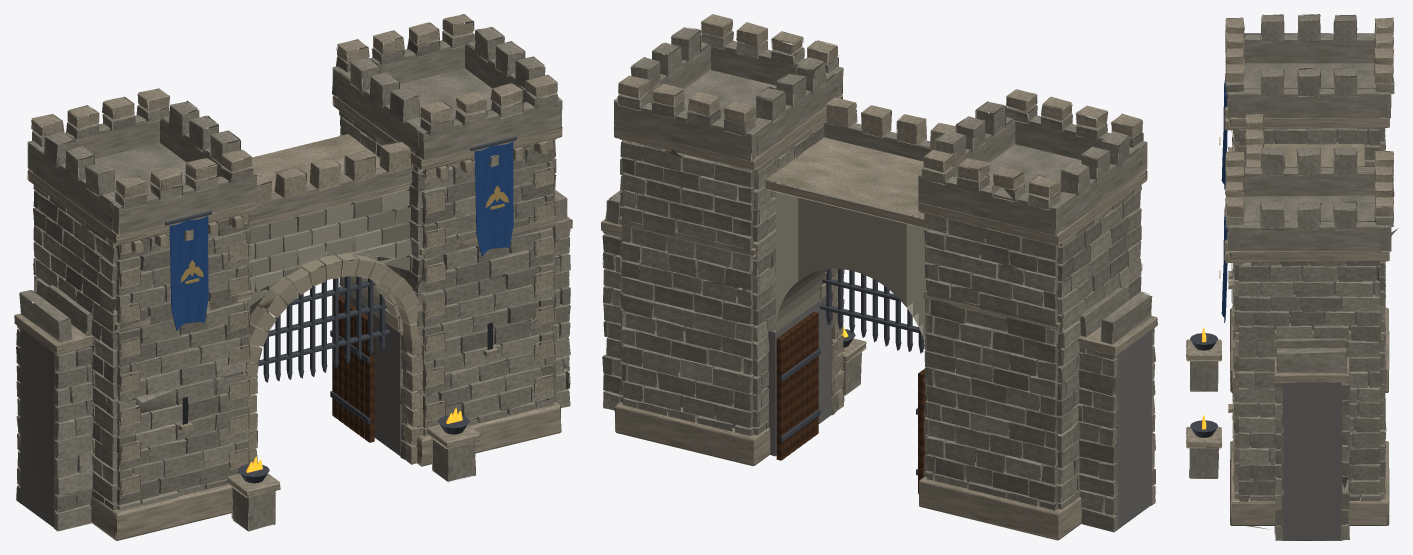
File: ValoriaHeroGate_LOD2.glb
3 renders of one model, left to right at view 1: azimuth 30°, elevation 25°; view 2: azimuth 150°, elevation 25°; view 3: azimuth 270°, elevation 25°, orthographic. The views are drawn at different scales.
Visible parts, largest first — view 1: Battered tower foot, Tower front ashlar.002, Tower front ashlar.003, Tower front ashlar.001, Tower front ashlar, Tower front ashlar.027, Tower front ashlar.008, Tower structural core, Banner mounting bar, Royal blue Valoria banner, Open oak gate leaf; view 2: Tower front ashlar.002, Battered tower foot, Tower front ashlar.001, Tower front ashlar.003, Tower front ashlar.027, Tower front ashlar, Tower front ashlar.008, Tower structural core, Open oak gate leaf, Banner mounting bar; view 3: Tower front ashlar.002, Battered tower foot, Tower front ashlar.003, Tower structural core, Tower front ashlar.008, Tower front ashlar.027, Tower front ashlar, Tower front ashlar.001, Royal blue Valoria banner, Banner mounting bar.
Boxes of the visible parts, <box> form: Battered tower foot: <box>14,14,572,540</box>; Tower front ashlar.002: <box>16,27,569,525</box>; Tower front ashlar.003: <box>17,68,569,531</box>; Tower front ashlar.001: <box>16,38,570,513</box>; Tower front ashlar: <box>32,100,570,531</box>; Tower front ashlar.027: <box>16,30,570,478</box>; Tower front ashlar.008: <box>16,116,570,507</box>; Tower structural core: <box>20,163,565,527</box>; Banner mounting bar: <box>165,136,516,483</box>; Royal blue Valoria banner: <box>169,141,513,330</box>; Open oak gate leaf: <box>332,295,374,442</box>; Tower front ashlar.002: <box>605,27,1155,514</box>; Battered tower foot: <box>601,14,1157,540</box>; Tower front ashlar.001: <box>602,101,1155,502</box>; Tower front ashlar.003: <box>603,70,1155,515</box>; Tower front ashlar.027: <box>603,31,1155,512</box>; Tower front ashlar: <box>603,40,1155,505</box>; Tower front ashlar.008: <box>602,140,1155,532</box>; Tower structural core: <box>607,148,1151,528</box>; Open oak gate leaf: <box>776,312,927,493</box>; Banner mounting bar: <box>780,269,924,475</box>; Tower front ashlar.002: <box>1225,14,1393,533</box>; Battered tower foot: <box>1186,17,1394,525</box>; Tower front ashlar.003: <box>1189,44,1393,522</box>; Tower structural core: <box>1243,128,1377,540</box>; Tower front ashlar.008: <box>1229,126,1385,529</box>; Tower front ashlar.027: <box>1225,60,1394,540</box>; Tower front ashlar: <box>1226,28,1398,540</box>; Tower front ashlar.001: <box>1232,32,1394,525</box>; Royal blue Valoria banner: <box>1221,81,1227,322</box>; Banner mounting bar: <box>1190,88,1228,437</box>.
Bounding box in the file's own units: 11.58 × 7.75 × 4.62.
14 materials, 8 textured.
